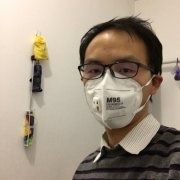Mask: (79, 54, 153, 127)
